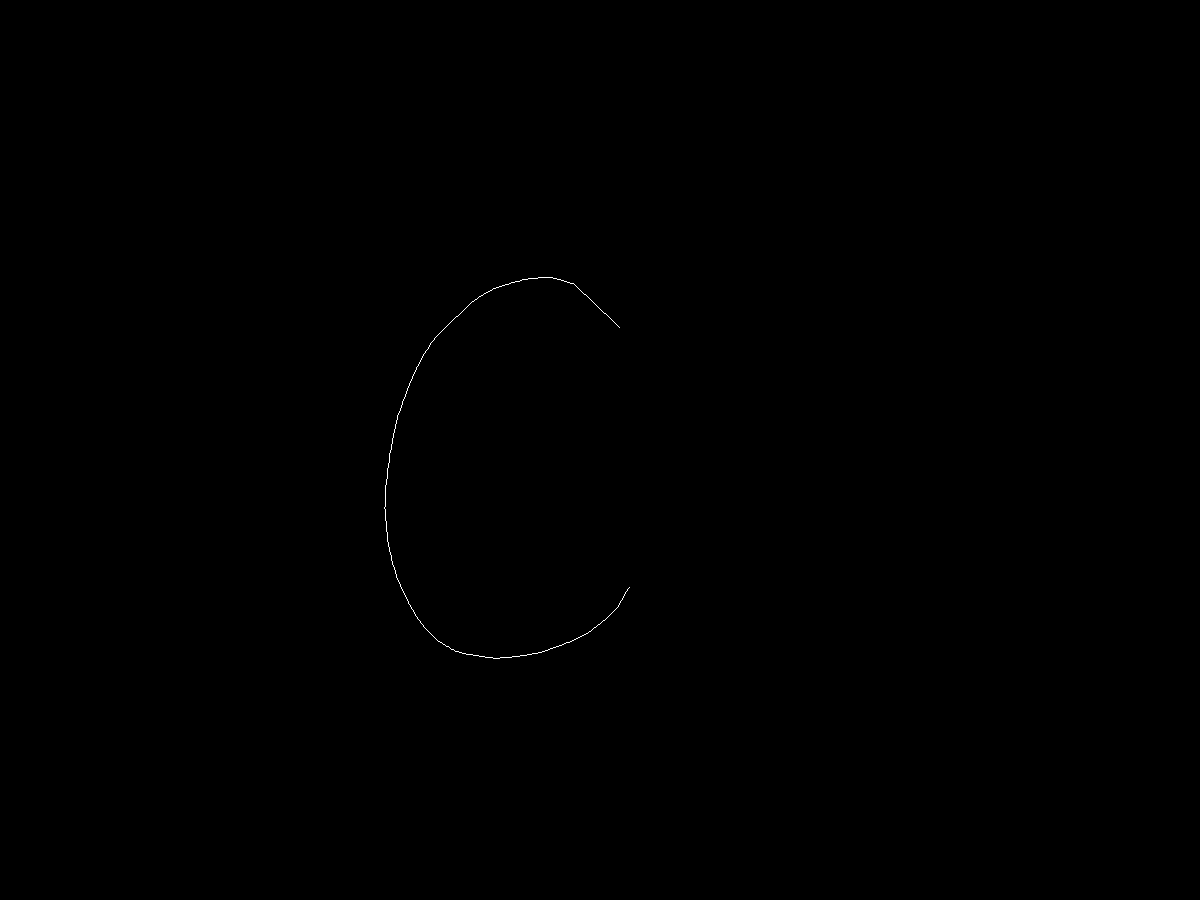dian1: (611, 319, 627, 332)
dian2: (625, 577, 645, 603)
